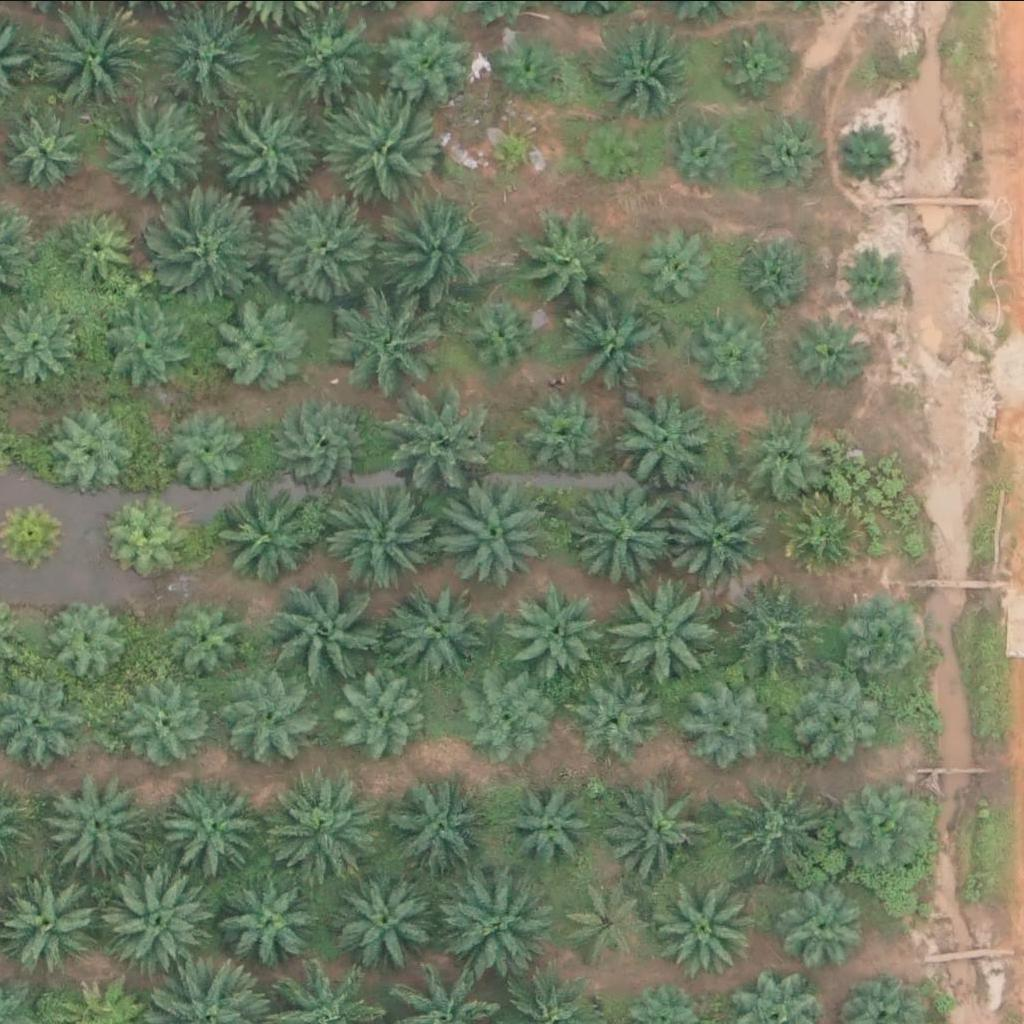Kelapa_Sawit: (434, 481, 548, 594), (39, 3, 152, 116), (206, 92, 319, 205), (267, 195, 380, 308), (661, 476, 774, 589), (565, 484, 678, 597), (164, 772, 277, 885), (273, 771, 386, 884), (330, 861, 443, 974), (369, 196, 483, 308), (330, 479, 444, 591), (607, 577, 721, 689), (107, 100, 220, 212), (324, 95, 437, 207), (158, 198, 271, 310), (375, 385, 488, 497), (269, 581, 382, 693), (730, 777, 843, 889), (108, 861, 221, 973), (446, 864, 559, 976), (272, 8, 373, 108), (373, 6, 474, 106), (521, 214, 622, 314), (570, 300, 671, 400), (342, 300, 443, 400), (618, 390, 719, 490), (218, 487, 319, 587), (386, 584, 487, 684), (723, 582, 824, 682), (223, 663, 324, 763), (43, 774, 144, 874), (616, 780, 717, 880), (223, 867, 324, 967), (656, 876, 757, 976), (587, 15, 688, 115), (208, 293, 308, 393), (276, 395, 376, 495), (843, 771, 943, 871), (391, 774, 492, 873), (743, 113, 831, 201), (781, 494, 869, 582), (57, 205, 145, 293), (459, 291, 547, 379), (50, 410, 138, 498), (519, 584, 607, 672), (687, 682, 775, 770), (122, 684, 210, 772), (2, 105, 90, 193), (107, 306, 196, 393), (794, 672, 883, 759), (562, 874, 651, 961), (662, 104, 750, 191), (166, 409, 254, 496), (528, 387, 616, 474), (748, 410, 836, 497), (46, 593, 134, 680), (170, 596, 258, 683), (840, 594, 928, 681), (565, 682, 653, 769), (453, 673, 541, 760), (338, 670, 426, 757), (504, 779, 592, 866), (784, 877, 872, 964), (645, 233, 721, 308), (733, 231, 809, 306), (493, 32, 569, 107), (580, 113, 656, 188), (116, 499, 192, 574), (715, 25, 790, 100), (700, 313, 775, 388), (800, 315, 875, 390), (841, 254, 904, 317), (837, 122, 900, 184), (481, 119, 544, 181)
